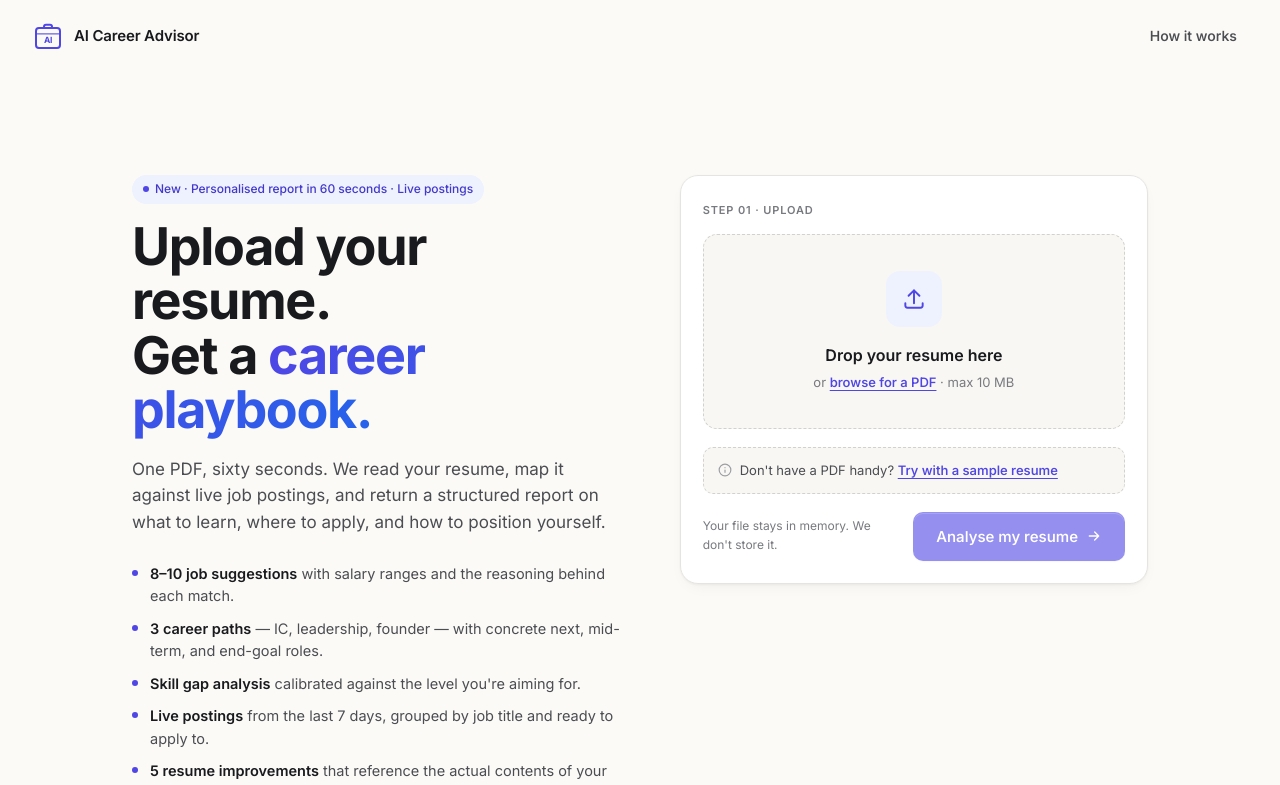
Test: UploadScreen › opens "How it works" modal when button is clicked
The width and height of the screenshot is (1280, 785).
Click the button "How it works": (1193, 36) [1139,18,1248,53]
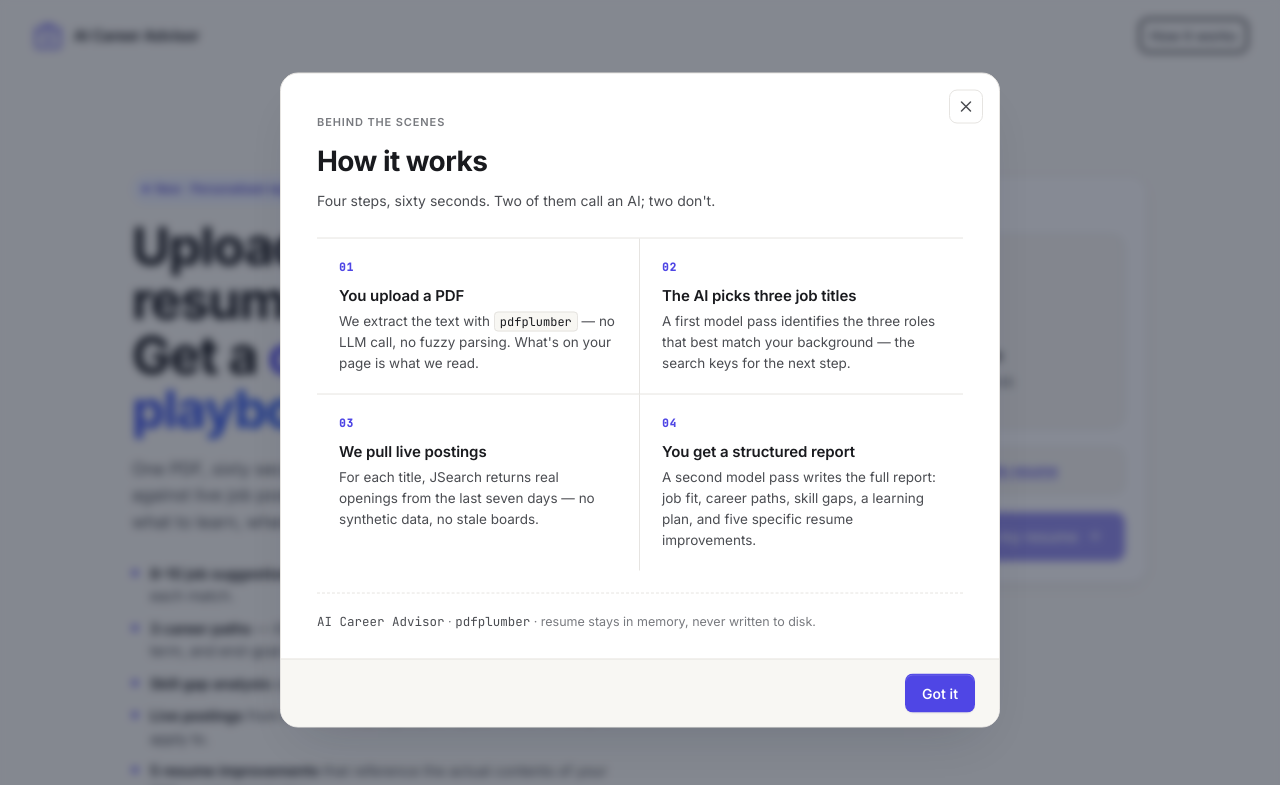
Check: the dialog is shown, box [280,72,1000,728]
Check: the text "Behind the scenes" is shown, box [317,114,445,128]
